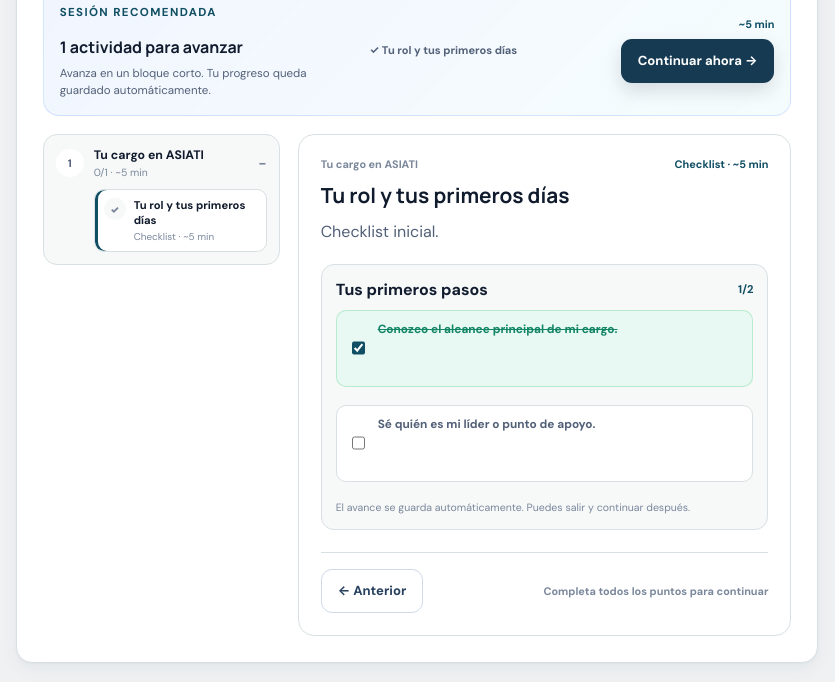
Test: Training platform › restores and saves onboarding checklist progress
(page scrolled)
Expected: the checkbox labelled "Conozco el alcance principal de mi cargo." is checked, [352,322,365,372]
What coordinates should you click on to do the following:
click the checkbox labelled "Sé quién es mi líder o punto de apoyo."
I would click on:
 (358, 442)
Its box is [352,418,365,468].
(page scrolled)
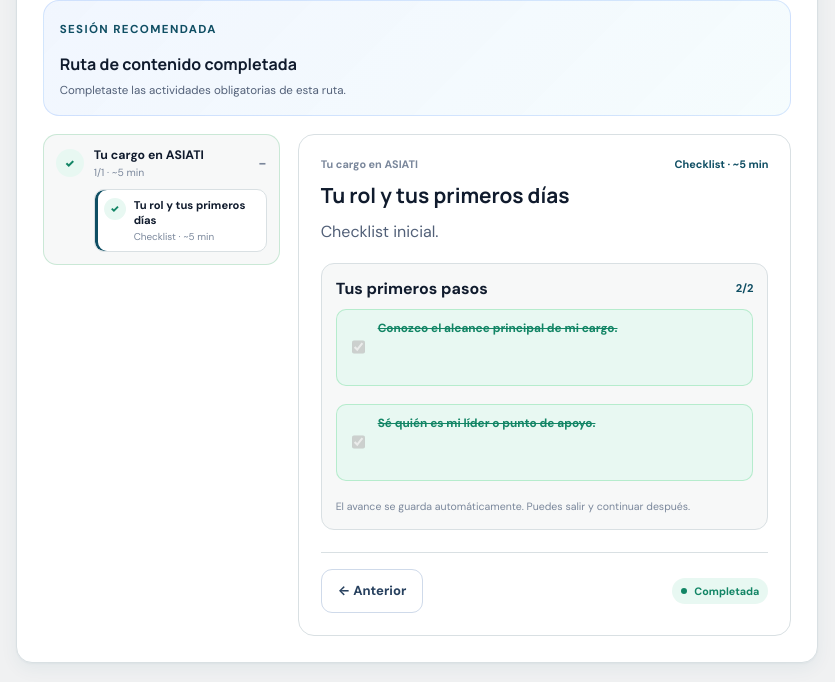
Now the text "2/2" is shown, box [736,280,753,297]
